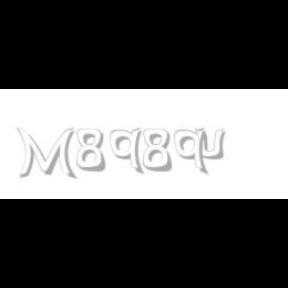8: (76, 128, 106, 172), (142, 128, 171, 172)
M: (16, 128, 74, 180)
q: (109, 128, 145, 176), (174, 128, 210, 176)
u: (195, 128, 230, 160)
